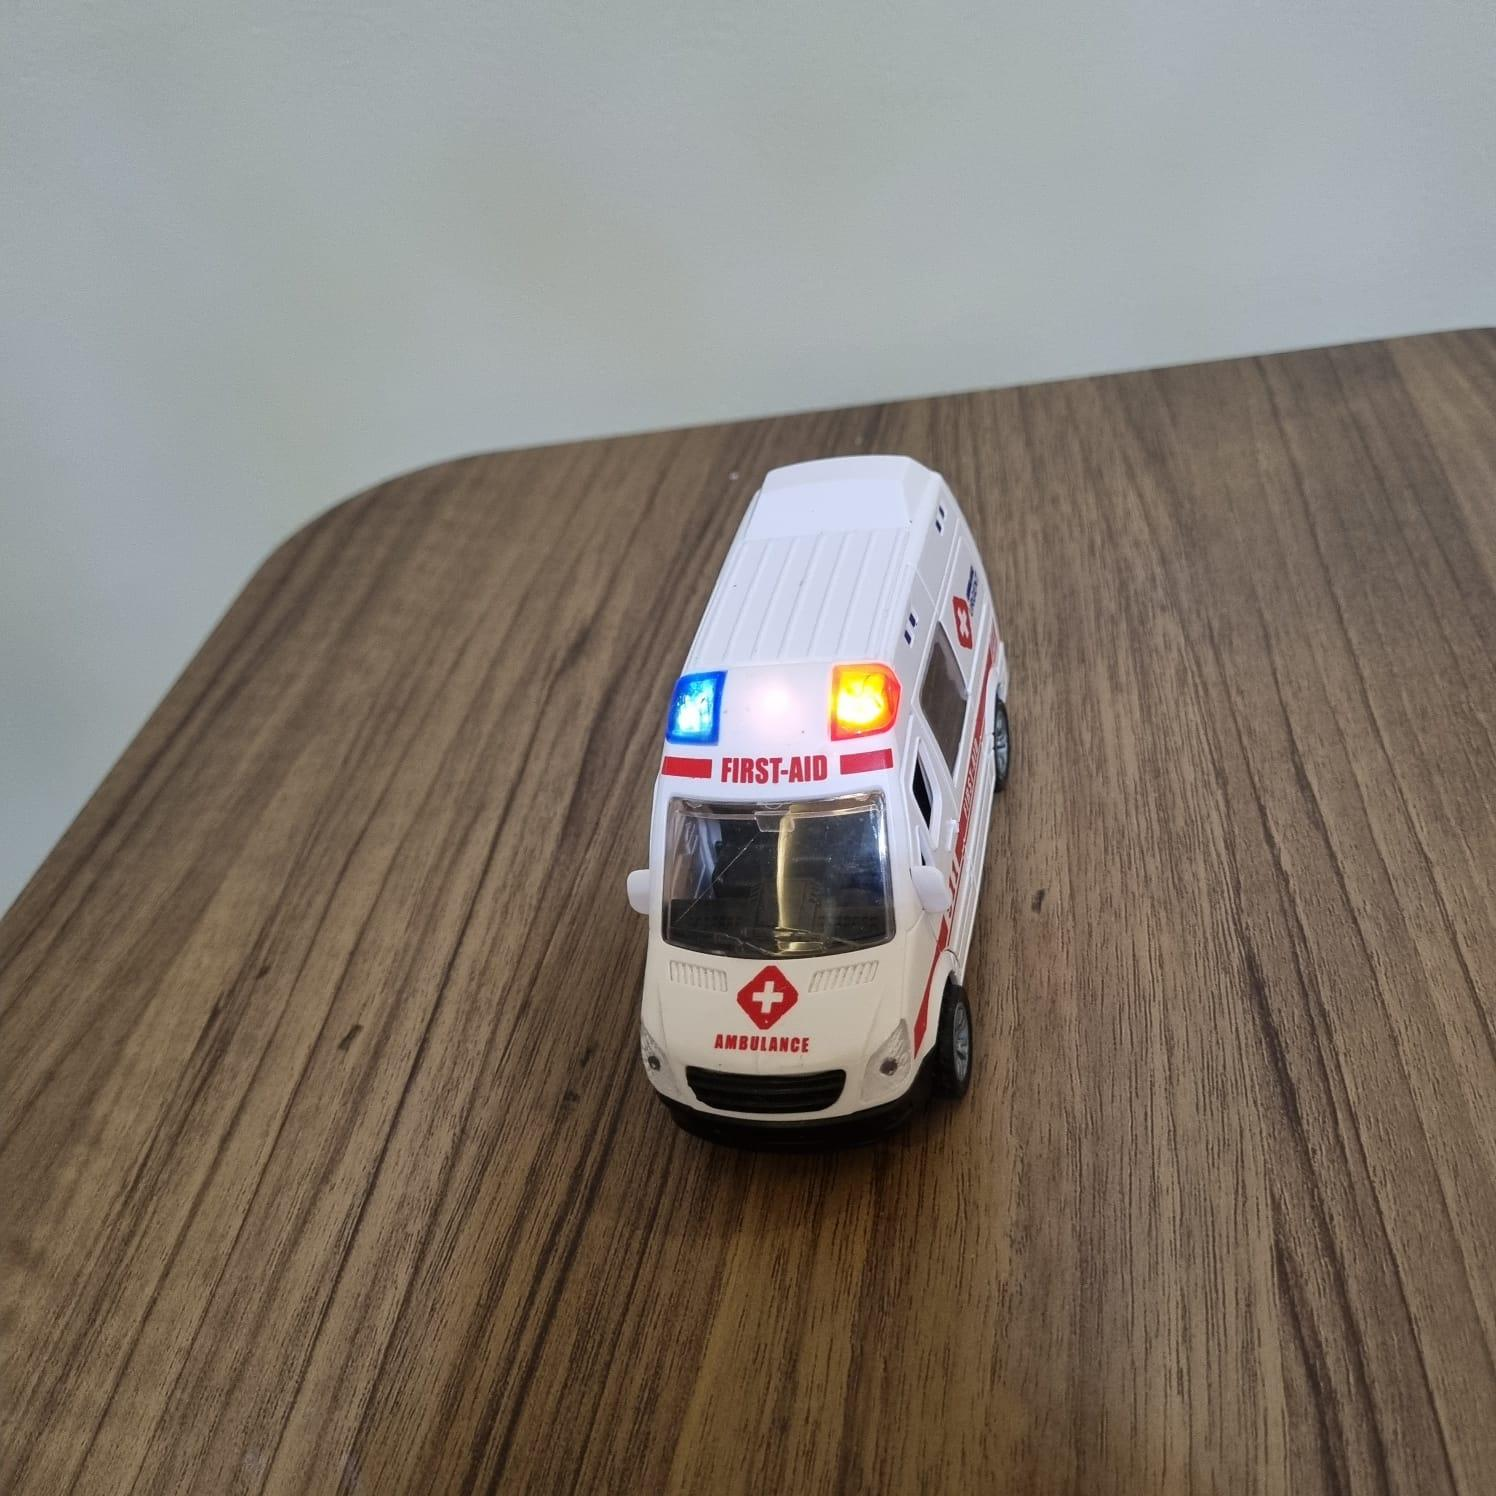ambulance_on: (625, 451, 1014, 1134)
